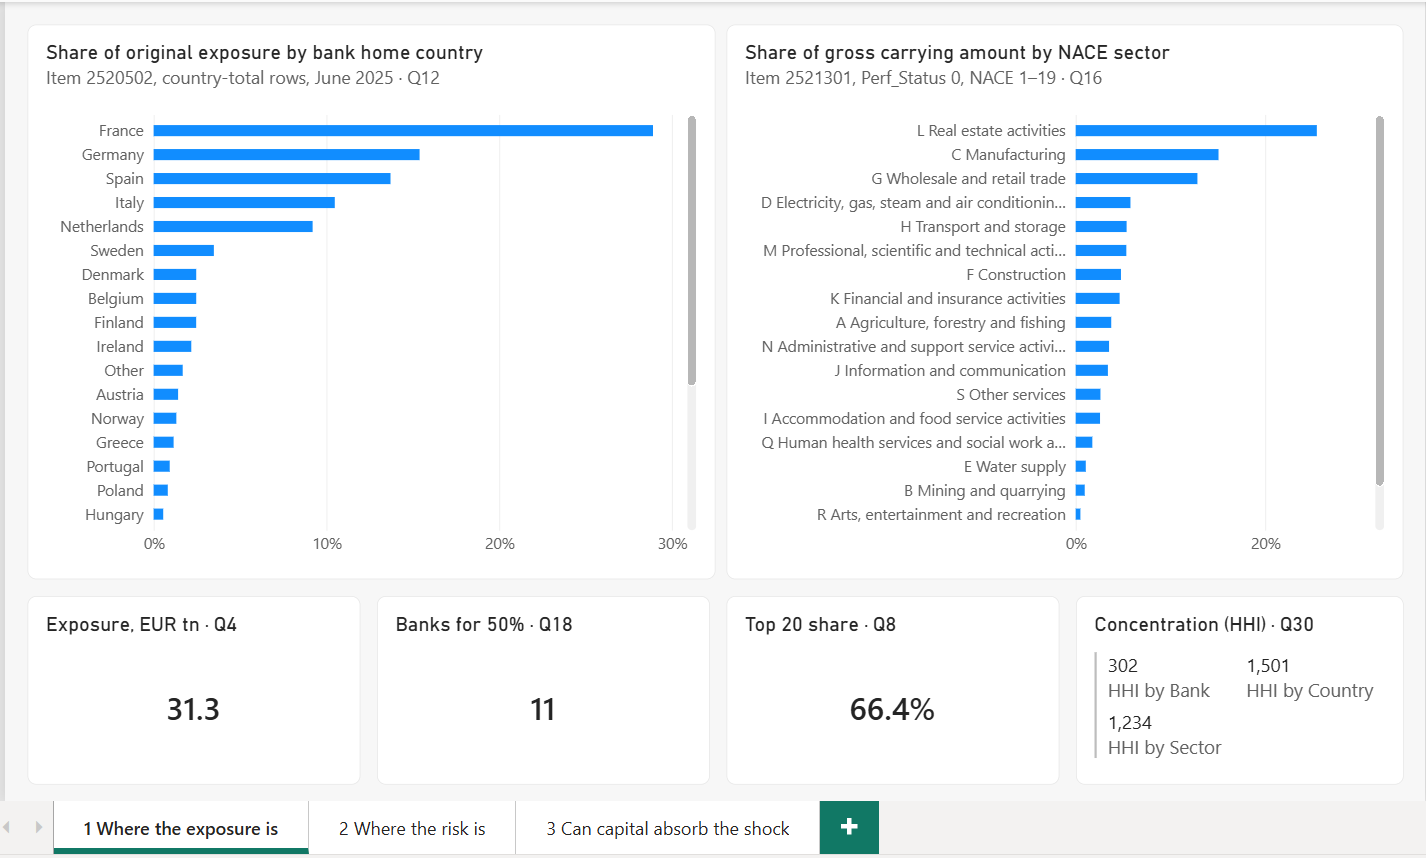

The dashboard page shown, as its layout file describes it:
{"tool":"powerbi","page":{"name":"1 Where the exposure is","canvas":[1280,720],"ordinal":0},"visuals":[{"type":"clusteredBarChart","title":"Share of original exposure by bank home country","fields":{"Category":["countries.country"],"Y":["bank_exposure.Country Share of Exposure"]},"box":[20,20,620,500],"z":1},{"type":"clusteredBarChart","title":"Share of gross carrying amount by NACE sector","fields":{"Category":["sector.sector"],"Y":["sector.Sector Share of Exposure"]},"box":[650,20,610,500],"z":2},{"type":"card","title":"Exposure, EUR tn · Q4","fields":{"Values":["bank_exposure.Original Exposure EUR tn"]},"box":[20,535,300,170],"z":3},{"type":"card","title":"Banks for 50% · Q18","fields":{"Values":["bank_exposure.Banks Holding Half of Exposure"]},"box":[335,535,300,170],"z":4},{"type":"card","title":"Top 20 share · Q8","fields":{"Values":["bank_exposure.Top 20 Bank Share"]},"box":[650,535,300,170],"z":5},{"type":"multiRowCard","title":"Concentration (HHI) · Q30","fields":{"Values":["bank_exposure.HHI by Bank","bank_exposure.HHI by Country","sector.HHI by Sector"]},"box":[965,535,295,170],"z":6}]}

Visuals, with their boxes on the page's 1280x720 design canvas (x1, y1, x2, y2). These are canvas units, not pixel positions in the 1426x858 screenshot, which may show the page scaled, cropped or inside an application window:
"Share of original exposure by bank home country" clusteredBarChart: (x1=20, y1=20, x2=640, y2=520)
"Share of gross carrying amount by NACE sector" clusteredBarChart: (x1=650, y1=20, x2=1260, y2=520)
"Exposure, EUR tn · Q4" card: (x1=20, y1=535, x2=320, y2=705)
"Banks for 50% · Q18" card: (x1=335, y1=535, x2=635, y2=705)
"Top 20 share · Q8" card: (x1=650, y1=535, x2=950, y2=705)
"Concentration (HHI) · Q30" multiRowCard: (x1=965, y1=535, x2=1260, y2=705)
